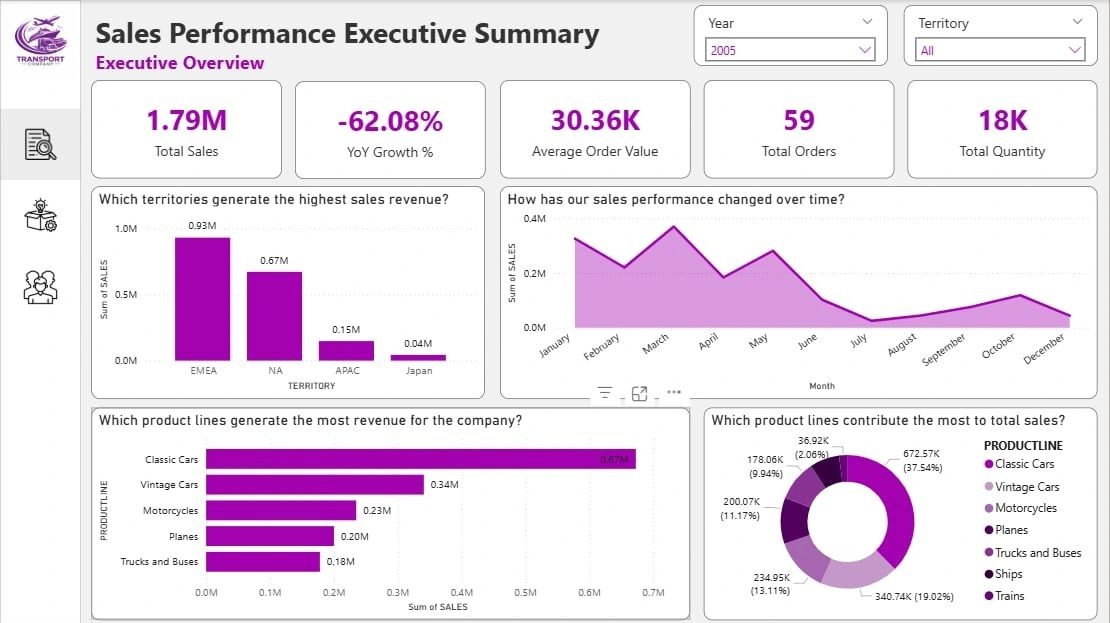

Layout of this report page (visuals, bound fields, positions):
{"tool":"powerbi","page":{"name":"Executive Overview","canvas":[1280,720],"ordinal":0},"visuals":[{"type":"shape","box":[0,0,93.3,720],"z":0},{"type":"image","box":[10.8,228,70.7,40.4],"z":1000},{"type":"image","box":[10.8,311.6,70.7,40.4],"z":2000},{"type":"textbox","box":[105.3,51.9,217.9,43.3],"z":3000},{"type":"lineChart","title":"How has our sales performance changed over time?","fields":{"Category":["DateTable.DateHierarchy.Year","DateTable.DateHierarchy.Quarter","DateTable.DateHierarchy.Month","DateTable.DateHierarchy.Date"],"Y":["Sum(Fact_Sales.SALES)"]},"box":[577.1,215,689.6,245.3],"z":4000},{"type":"card","fields":{"Values":["_Measures.Total Sales"]},"box":[105.5,92.4,220,113.9],"z":5000},{"type":"card","fields":{"Values":["_Measures.Total Quantity"]},"box":[1047.4,92.4,219.3,114],"z":6000},{"type":"card","fields":{"Values":["_Measures.Total Orders"]},"box":[812,92.4,220,114],"z":7000},{"type":"card","fields":{"Values":["_Measures.Average Order Value"]},"box":[576.5,92.4,220,114],"z":8000},{"type":"clusteredColumnChart","title":"Which territories generate the highest sales revenue?","fields":{"Category":["Dim_Customer.TERRITORY"],"Y":["Sum(Fact_Sales.SALES)"]},"box":[105.3,215,454.5,245.3],"z":9000},{"type":"donutChart","title":"Which product lines contribute the most to total sales?","fields":{"Category":["Dim_Product.PRODUCTLINE"],"Y":["Sum(Fact_Sales.SALES)"]},"box":[812.3,470.3,454.5,245.3],"z":10000},{"type":"textbox","box":[105.3,10.1,631.9,56.3],"z":11000},{"type":"shape","box":[0,125.5,93.8,82.2],"z":12000},{"type":"image","box":[10.8,148.6,70.7,36.1],"z":13000},{"type":"image","box":[0,5.8,93.8,85.1],"z":14000},{"type":"slicer","fields":{"Values":["DateTable.Year"]},"box":[800.7,5.8,223.6,70.7],"z":15000},{"type":"slicer","fields":{"Values":["Dim_Customer.TERRITORY"]},"box":[1043.1,5.8,223.6,70.7],"z":16000},{"type":"clusteredBarChart","title":"Which product lines generate the most revenue for the company?","fields":{"Category":["Dim_Product.PRODUCTLINE"],"Y":["Sum(Fact_Sales.SALES)"]},"box":[105.3,470.3,691.1,245.3],"z":17000},{"type":"card","fields":{"Values":["_Measures.YoY Growth %"]},"box":[341,93.1,220,112.5],"z":18000}]}

Visuals, with their boxes in screenshot pixels (x1, y1, x2, y2), scaled from the page's 1280x720 canvas onto the 1110x623 screenshot:
shape: rect(0, 0, 81, 622)
image: rect(9, 197, 71, 232)
image: rect(9, 270, 71, 305)
textbox: rect(91, 45, 280, 82)
"How has our sales performance changed over time?" lineChart: rect(500, 186, 1098, 398)
card - _Measures.Total Sales: rect(91, 80, 282, 179)
card - _Measures.Total Quantity: rect(908, 80, 1098, 179)
card - _Measures.Total Orders: rect(704, 80, 895, 179)
card - _Measures.Average Order Value: rect(500, 80, 691, 179)
"Which territories generate the highest sales revenue?" clusteredColumnChart: rect(91, 186, 485, 398)
"Which product lines contribute the most to total sales?" donutChart: rect(704, 407, 1099, 619)
textbox: rect(91, 9, 639, 57)
shape: rect(0, 109, 81, 180)
image: rect(9, 129, 71, 160)
image: rect(0, 5, 81, 79)
slicer - DateTable.Year: rect(694, 5, 888, 66)
slicer - Dim_Customer.TERRITORY: rect(905, 5, 1098, 66)
"Which product lines generate the most revenue for the company?" clusteredBarChart: rect(91, 407, 691, 619)
card - _Measures.YoY Growth %: rect(296, 81, 486, 178)
